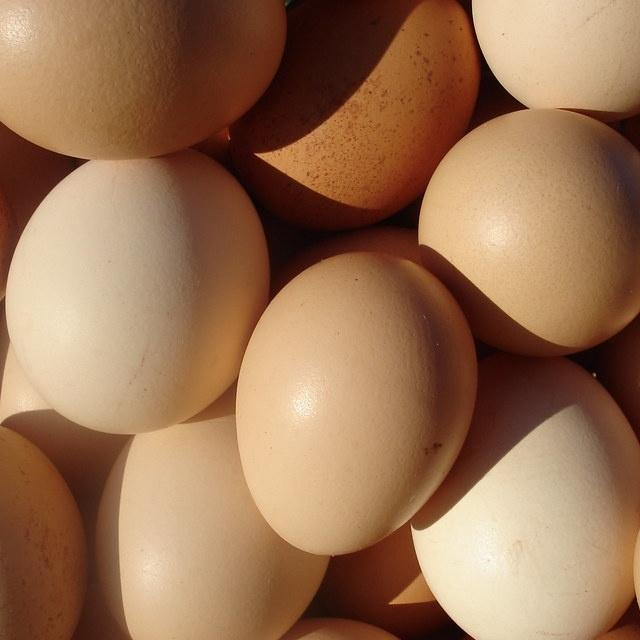egg: (234, 249, 478, 556), (417, 107, 640, 357), (470, 0, 640, 120)
